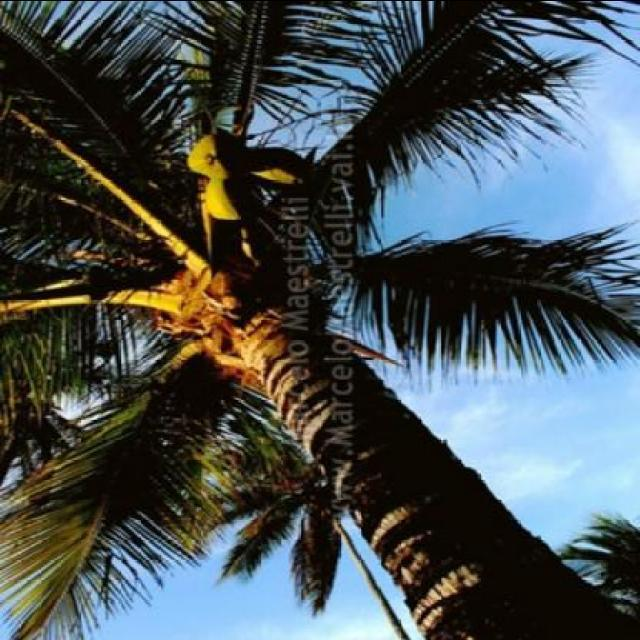Coconut: (0, 2, 638, 640), (176, 130, 308, 221)
